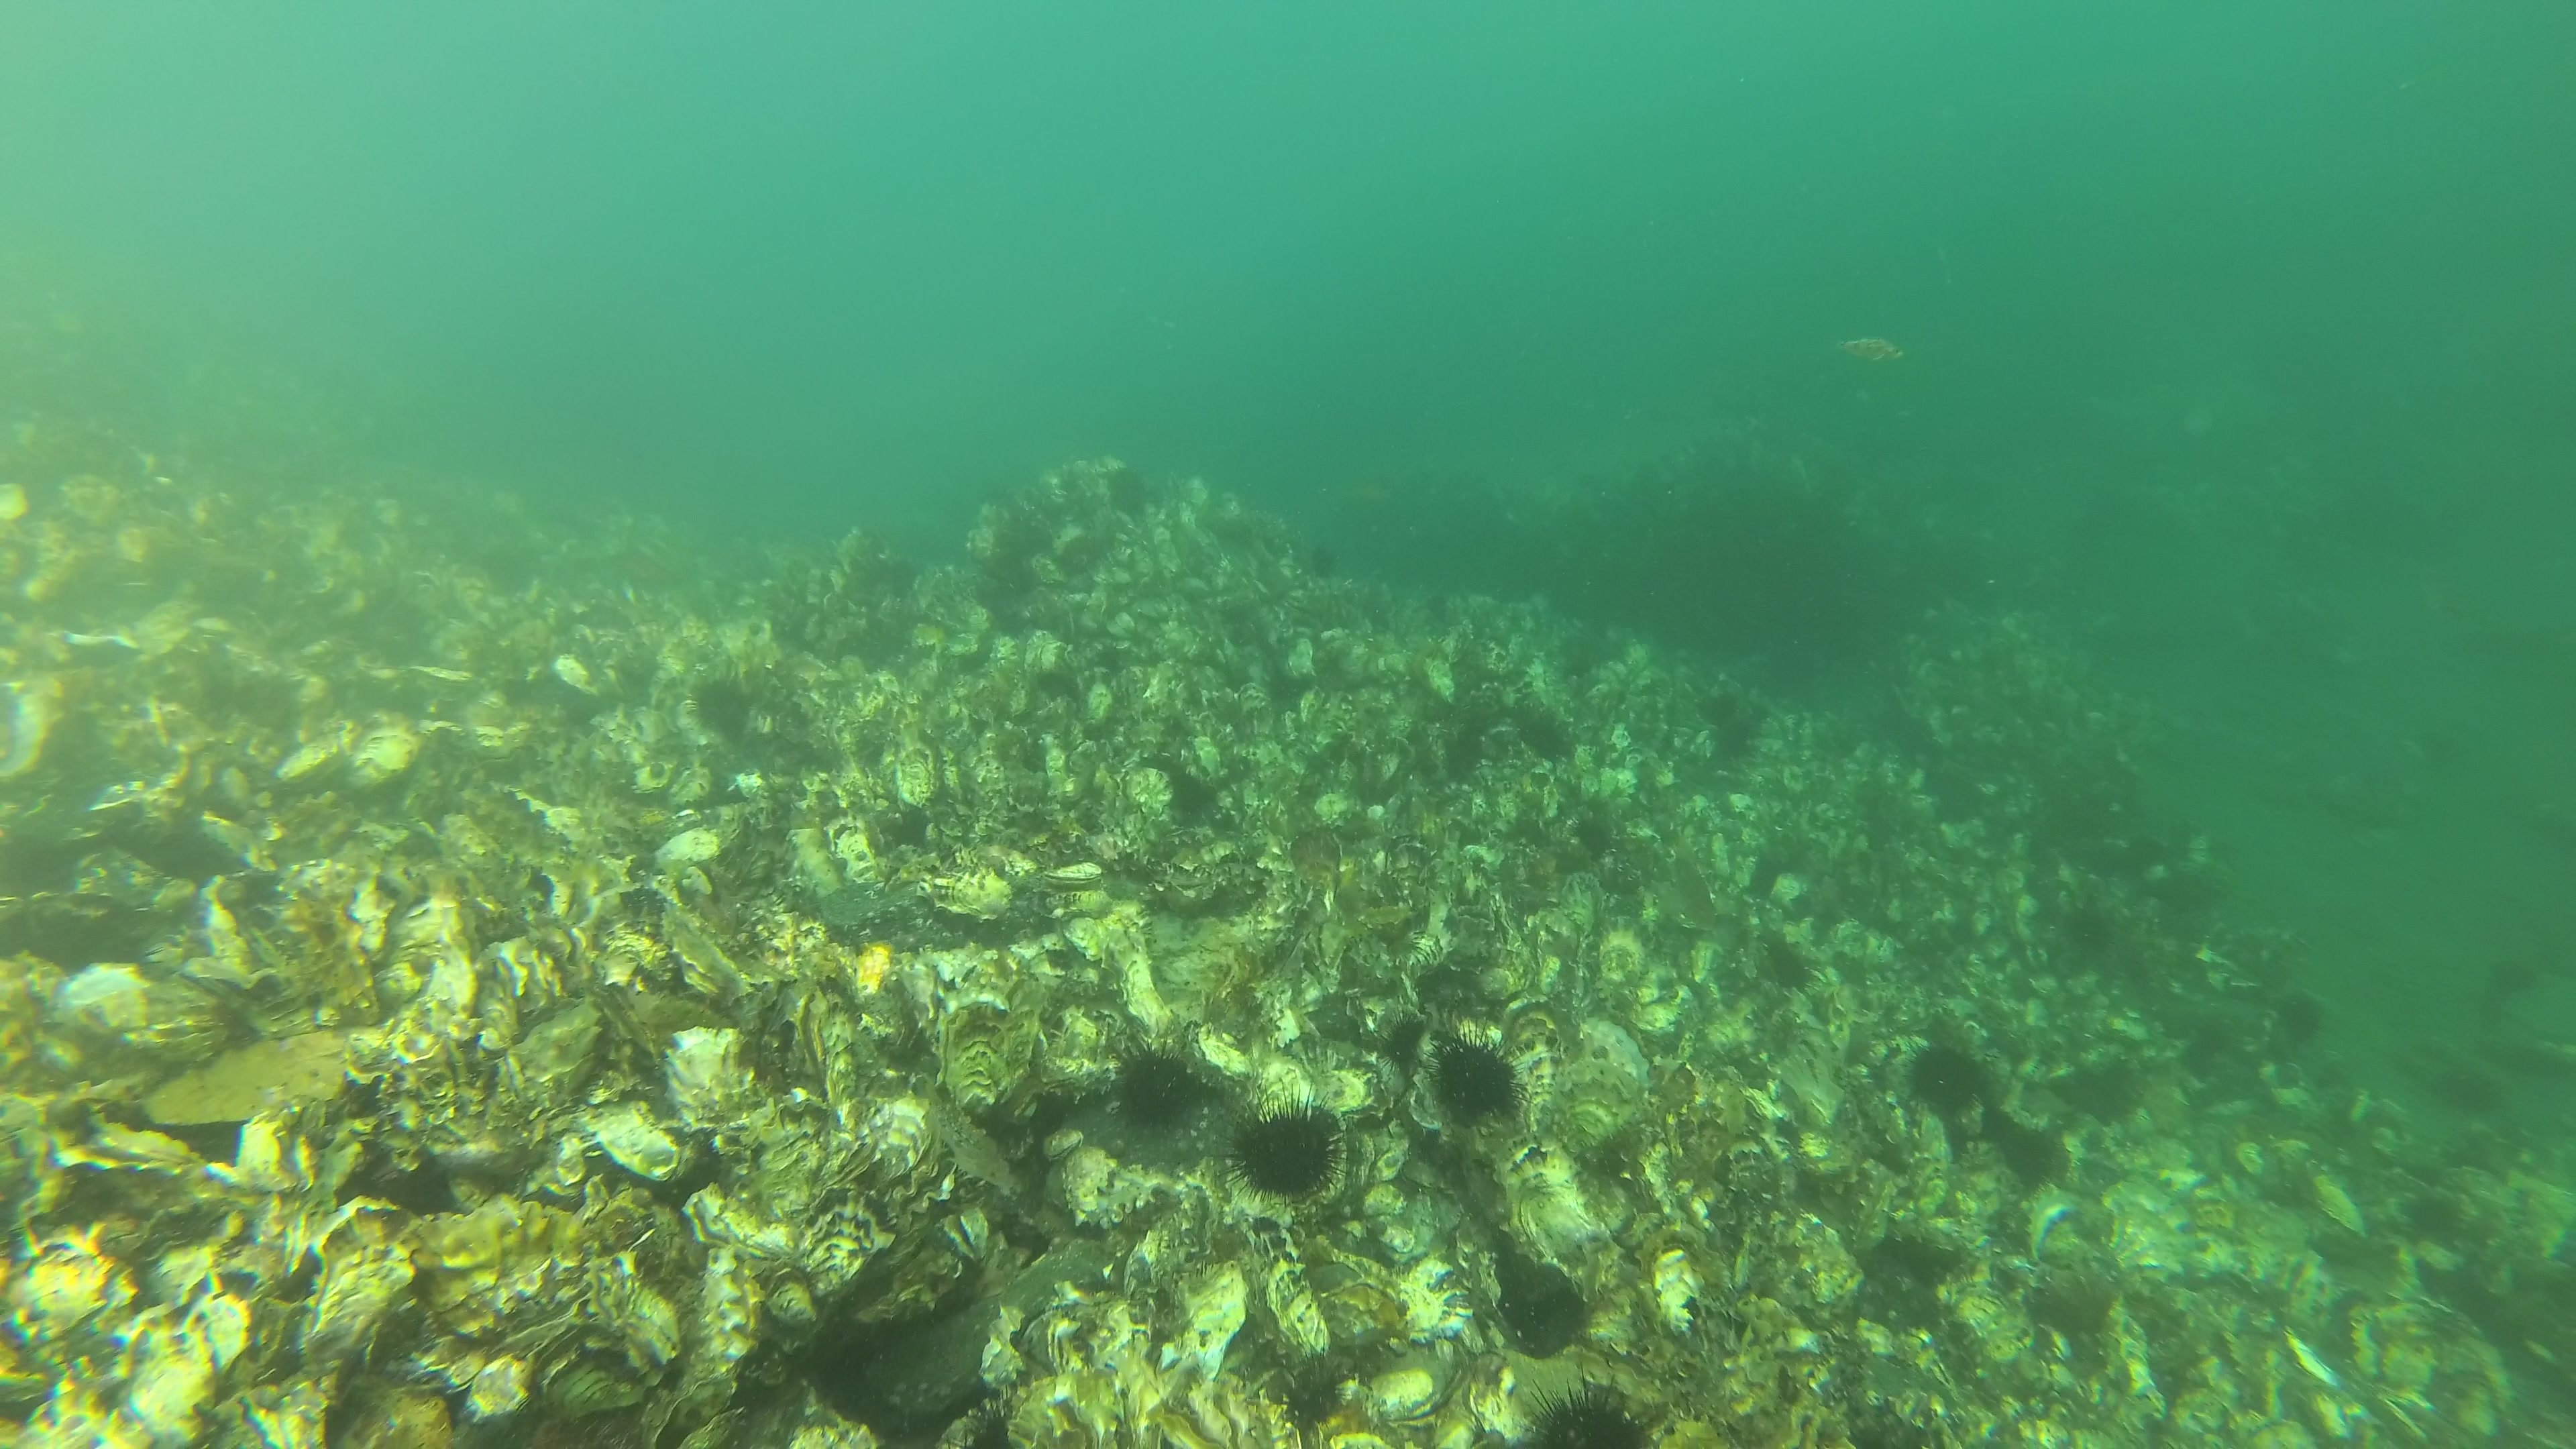echinus: (1235, 1088, 1350, 1207), (1426, 1021, 1525, 1127), (1509, 1380, 1660, 1449), (1106, 1037, 1198, 1131), (1375, 1000, 1444, 1092), (1904, 1039, 1985, 1113), (694, 669, 752, 740), (950, 1403, 1024, 1449), (2277, 984, 2330, 1047), (1104, 465, 1154, 524), (1300, 543, 1341, 589)
